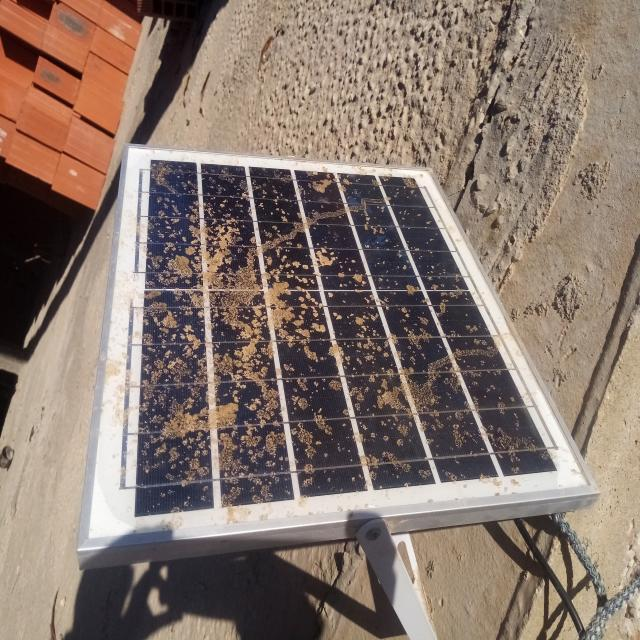faulty: (82, 145, 595, 549)
